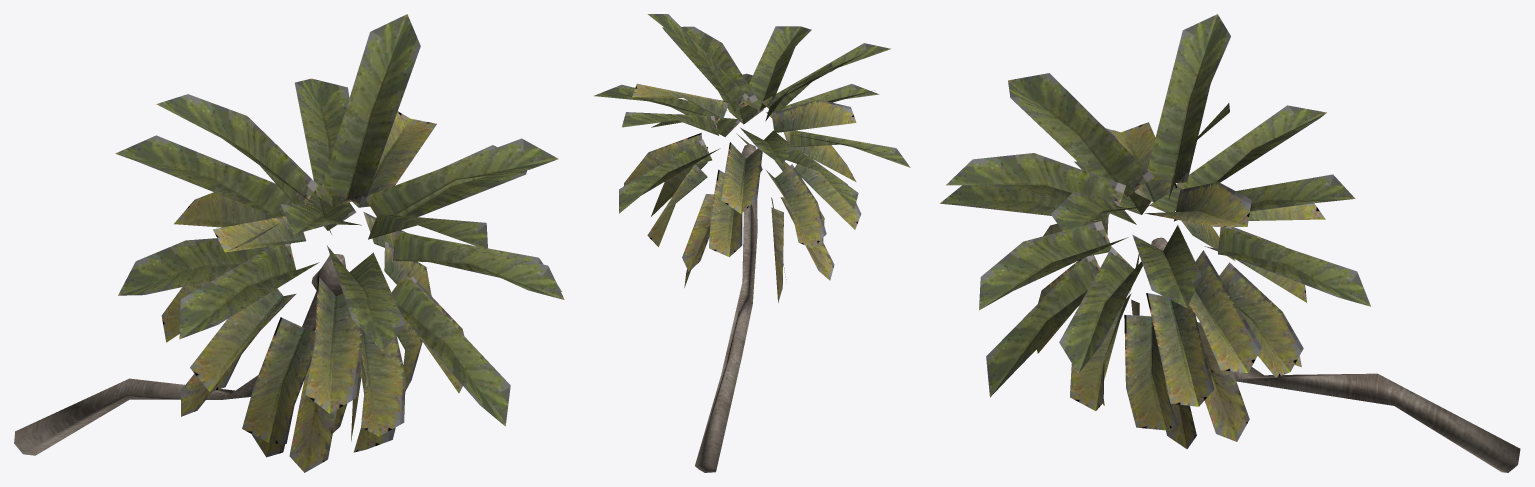
The model's file is tropical-palm-small-a-map.glb.
3 renders of one model, left to right at view 1: azimuth 30°, elevation 25°; view 2: azimuth 150°, elevation 25°; view 3: azimuth 270°, elevation 25°, orthographic. The views are drawn at different scales.
Parts seen in each view (by area): view 1: palm_tree_small_a_LOD0; view 2: palm_tree_small_a_LOD0; view 3: palm_tree_small_a_LOD0.
Part boxes in pixels (x1,y1,x2,y2): palm_tree_small_a_LOD0: (14, 14, 564, 472); palm_tree_small_a_LOD0: (594, 14, 910, 472); palm_tree_small_a_LOD0: (940, 14, 1520, 472).
Bounding box in the file's own units: 13.39 × 15.67 × 17.68.
1 material, 1 textured.
